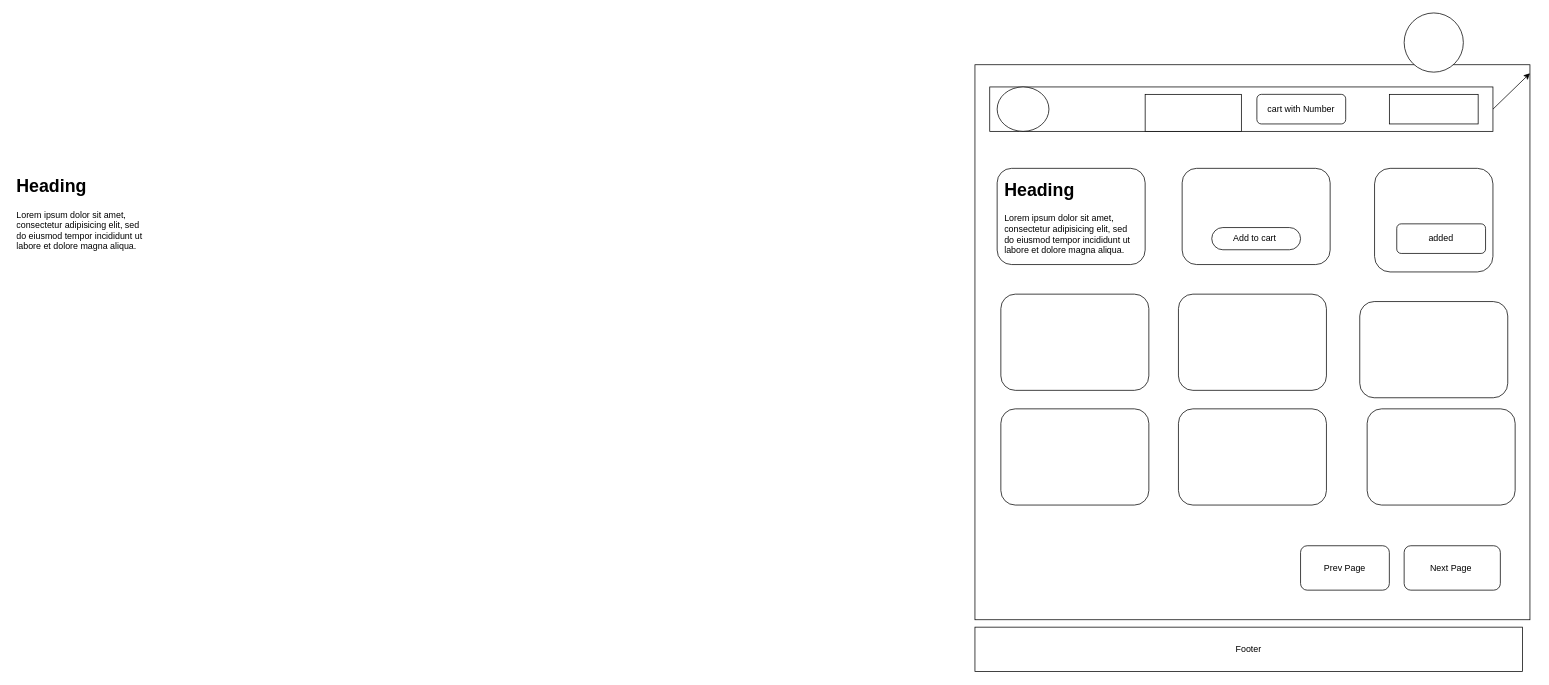
Image size: 1549x685. Some labels were removed from this diagram. The shapes that lost their labels are listed below. From the top down, each one's centre as x and y in pixels, then its label:
At [1433,42]: "Profile Image".
At [1192,112]: "Search bar".
At [1433,109]: "Login /SignUp".
